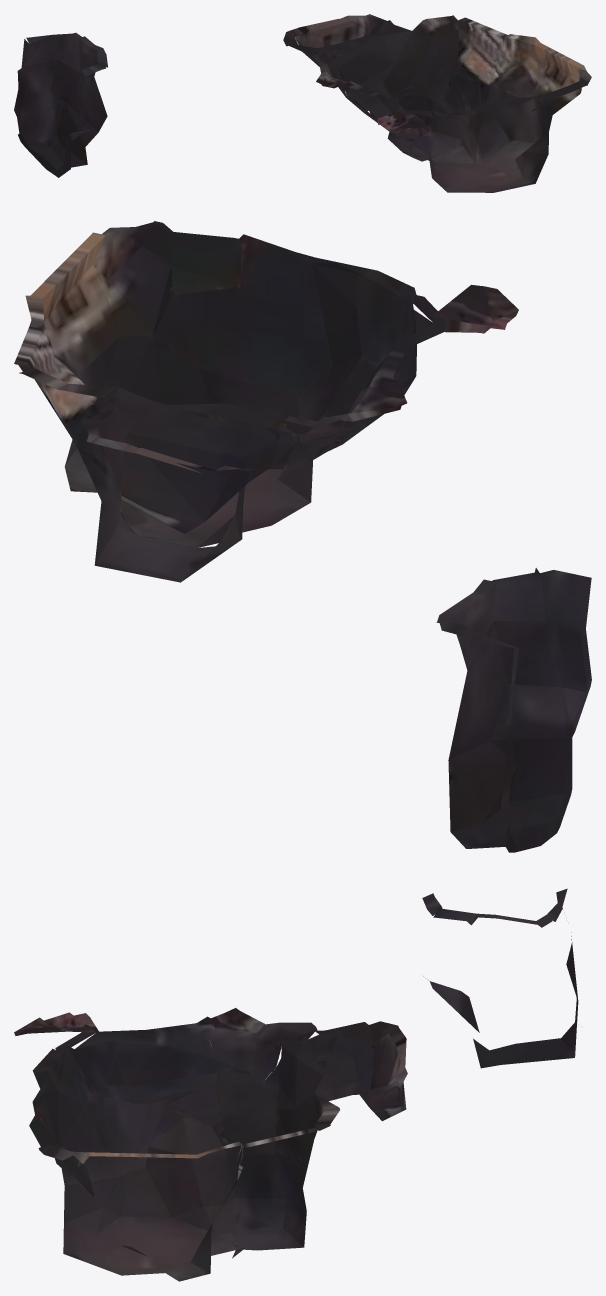
3 views of the same model, one above another, from view 1: azimuth 30°, elevation 25°; view 2: azimuth 150°, elevation 25°; view 3: azimuth 270°, elevation 25° (orthographic). The views are drawn at different scales.
Parts seen in each view (by area): view 1: Mesh_0; view 2: Mesh_0; view 3: Mesh_0.
Boxes of the visible parts, left/top/right/bottom form: Mesh_0: left=14, top=14, right=591, bottom=192; Mesh_0: left=14, top=221, right=591, bottom=852; Mesh_0: left=14, top=888, right=578, bottom=1281.
Size of the model in its own units: 29.69 by 8.78 by 26.66.
Materials: 1 (1 with a texture image).
